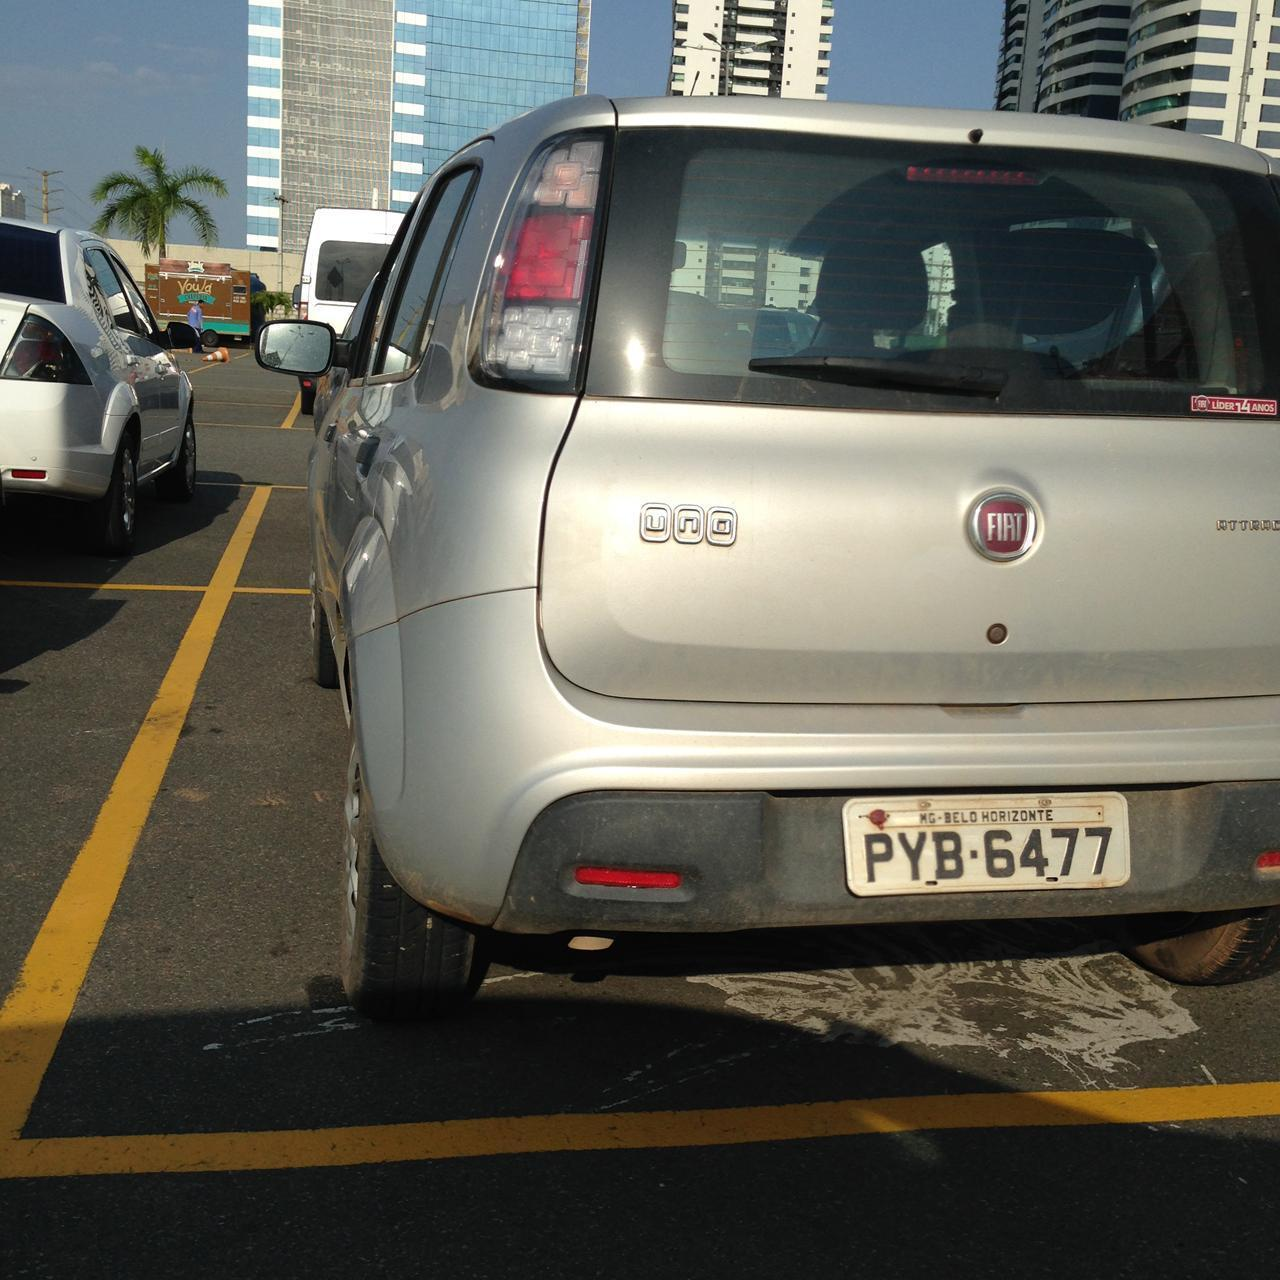placa de veiculo: (793, 761, 1158, 921)
